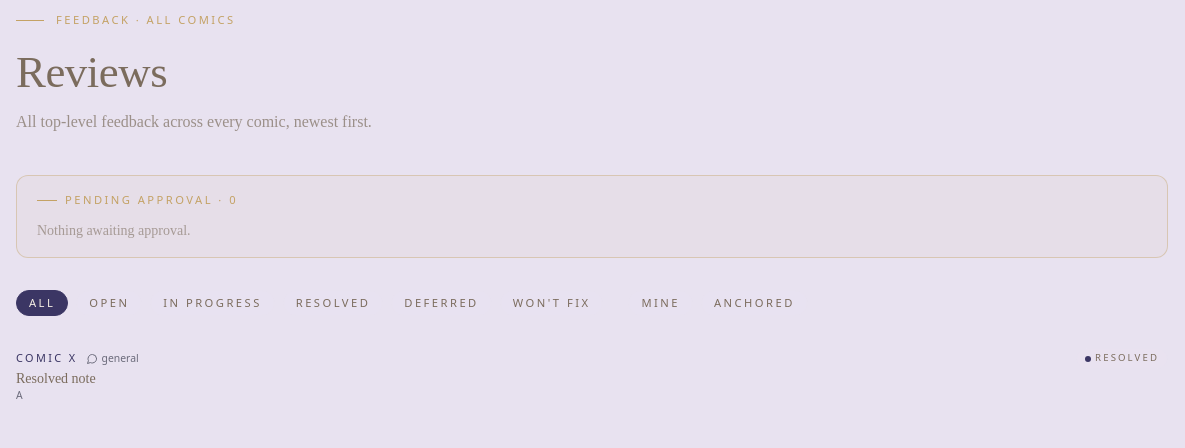
ReviewsPageShell › shows empty state when no roots match filters
Click the button "Open": {"x": 109, "y": 303} [76,290,142,316]
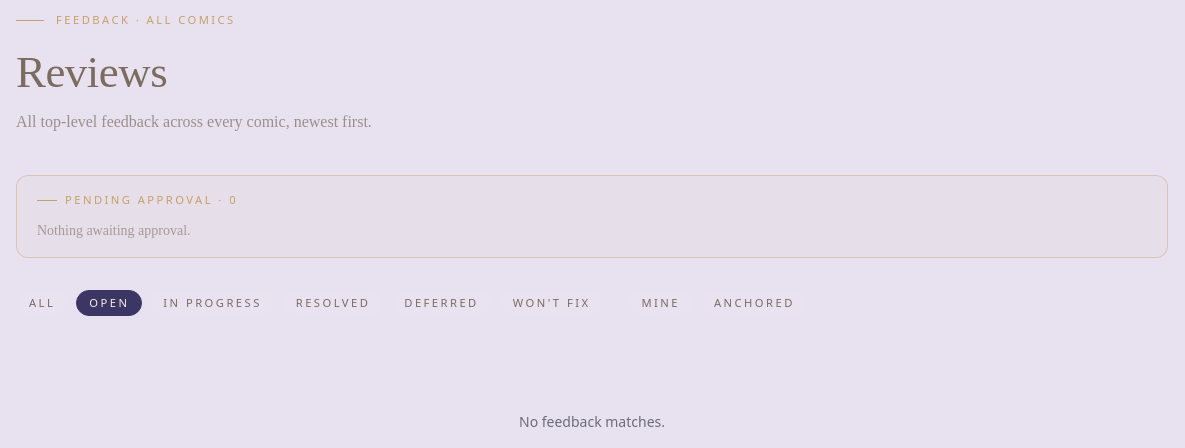
Expected: the text "No feedback matches." is shown, [519,412,665,431]
